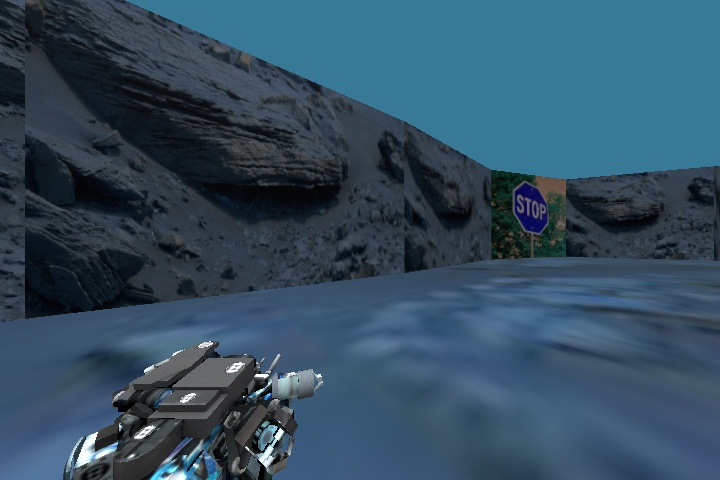stop_sign: (504, 173, 557, 244)
